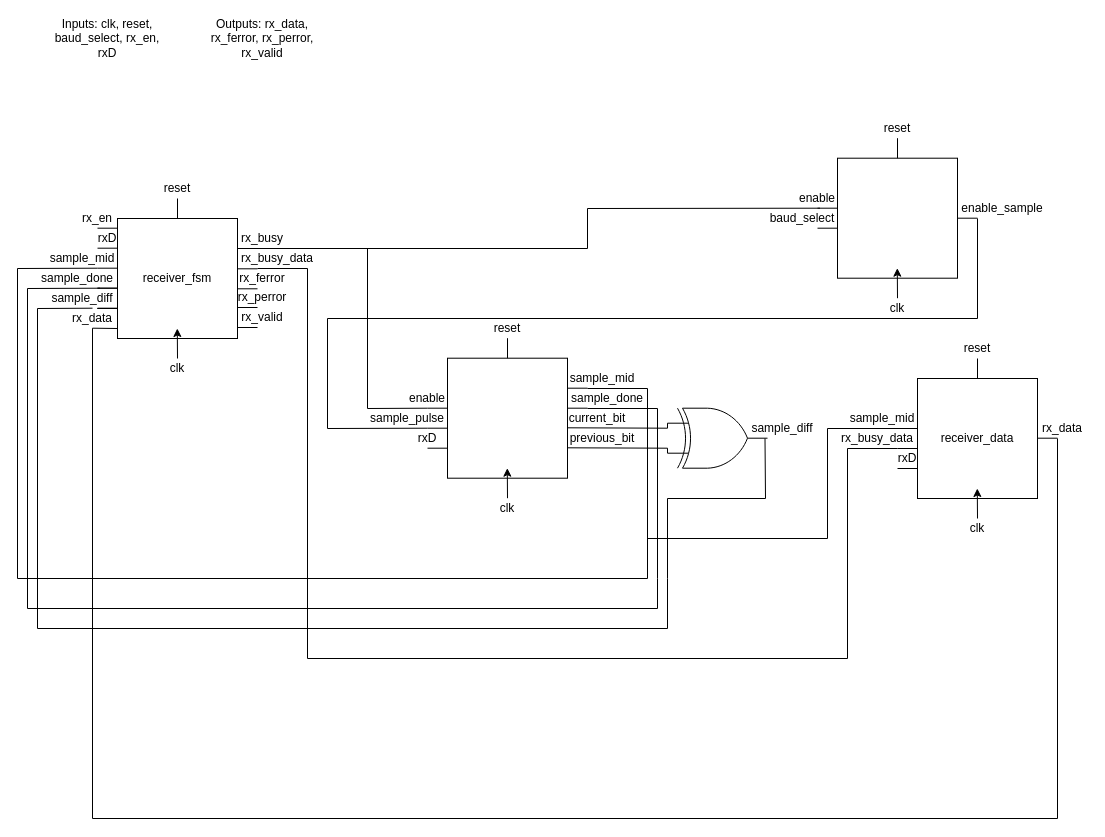
The diagram is 1105 pixels wide and 837 high, and some of its shapes have lost their labels. The centre of each missing label's shape, as x and y in pixels:
"baud_controller" goes at point 897,217.
"receiver_sampler" goes at point 507,417.
